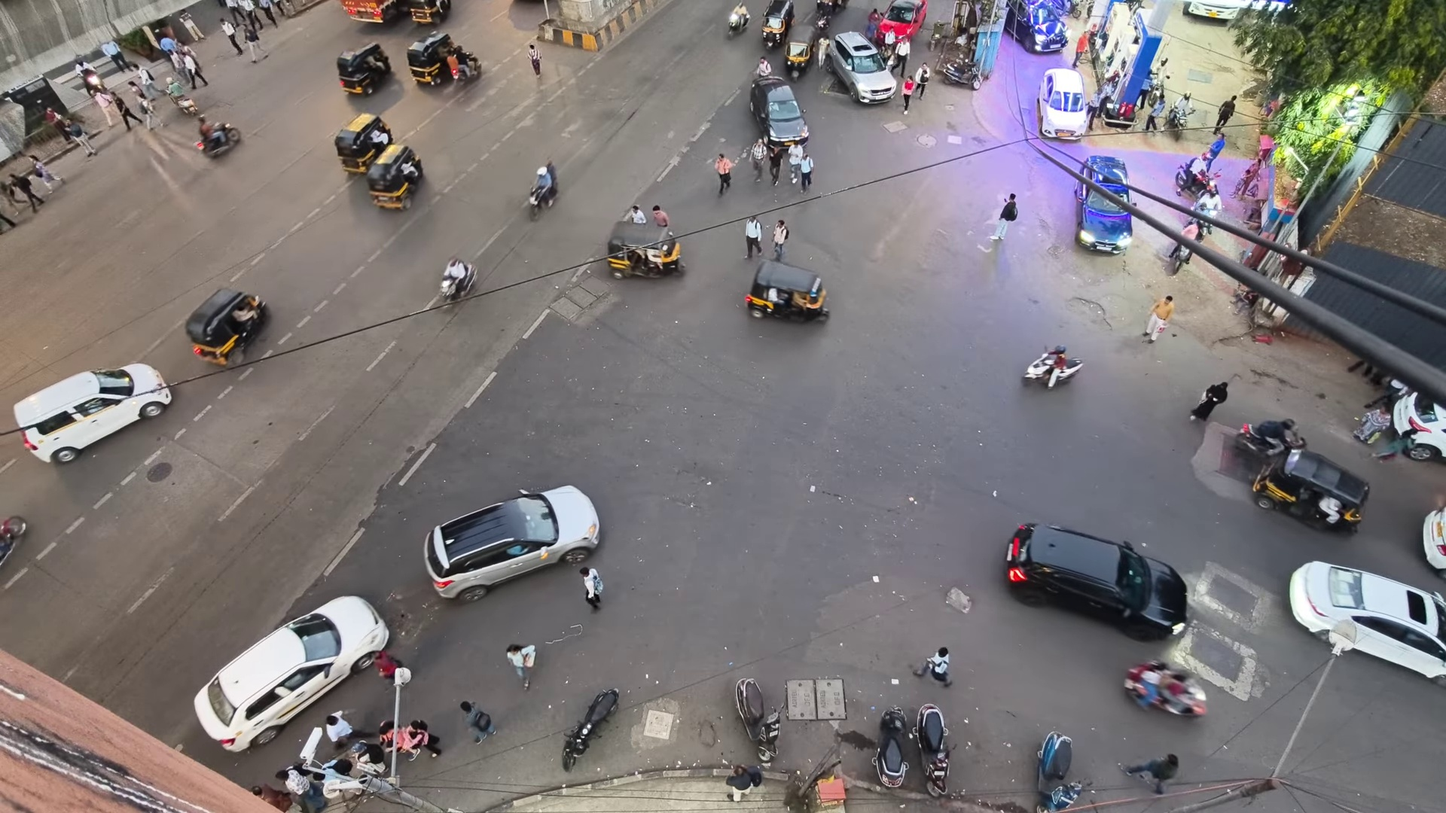driving: (194, 596, 389, 751), (1005, 523, 1186, 640), (424, 486, 599, 600), (1075, 181, 1132, 253)
walking: (276, 767, 327, 812), (1121, 754, 1178, 794), (396, 720, 441, 757), (325, 711, 369, 748), (130, 81, 162, 129), (914, 647, 951, 687), (460, 702, 496, 743), (1353, 406, 1392, 443), (1143, 296, 1174, 342), (725, 765, 763, 802), (1190, 382, 1228, 419), (1373, 428, 1417, 459), (506, 644, 535, 689), (26, 155, 63, 190), (990, 193, 1017, 240), (11, 174, 44, 212), (63, 120, 96, 156), (252, 784, 292, 812), (1136, 666, 1162, 708), (101, 40, 135, 72), (112, 95, 142, 130), (580, 567, 602, 610), (43, 107, 70, 142), (1213, 96, 1237, 134), (182, 53, 208, 88), (374, 651, 402, 682), (1144, 95, 1167, 132), (245, 26, 268, 62), (135, 66, 160, 99), (221, 18, 243, 55), (749, 138, 767, 181), (745, 215, 762, 259), (94, 90, 114, 127), (714, 154, 732, 194), (772, 220, 788, 261), (1207, 134, 1225, 170), (1072, 30, 1089, 68), (894, 37, 910, 75), (914, 64, 931, 99), (238, 0, 260, 27), (768, 147, 784, 184), (788, 143, 803, 182), (799, 151, 813, 191), (258, 0, 278, 27), (901, 77, 915, 114), (157, 35, 177, 56), (624, 205, 646, 224), (651, 205, 670, 227), (224, 0, 241, 22), (528, 43, 539, 77), (1182, 218, 1199, 239), (756, 56, 770, 77), (0, 212, 16, 228)
